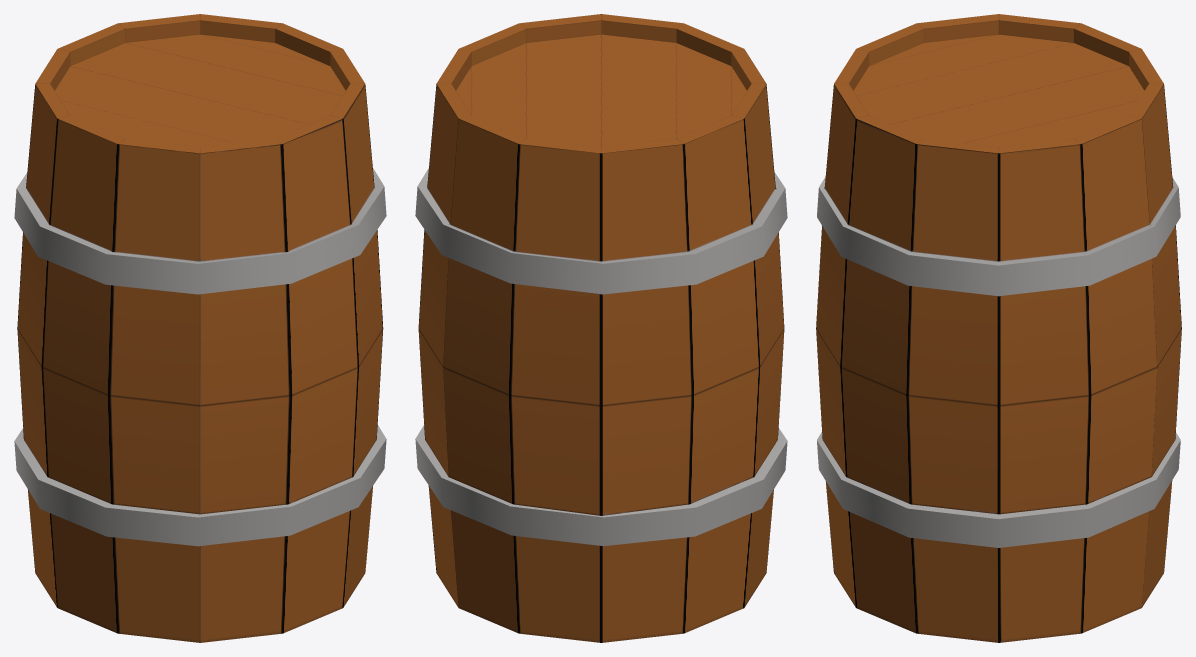
File: barrel.fbx
The picture shows the model from 3 angles, left to right: view 1: azimuth 30°, elevation 25°; view 2: azimuth 150°, elevation 25°; view 3: azimuth 270°, elevation 25°; orthographic projection.
Visible parts, largest first — view 1: Barrel; view 2: Barrel; view 3: Barrel.
Boxes of the visible parts, <box> form: Barrel: <box>14,14,386,642</box>; Barrel: <box>415,14,787,642</box>; Barrel: <box>816,14,1181,642</box>.
Bounding box in the file's own units: 62.47 × 90 × 60.96.
